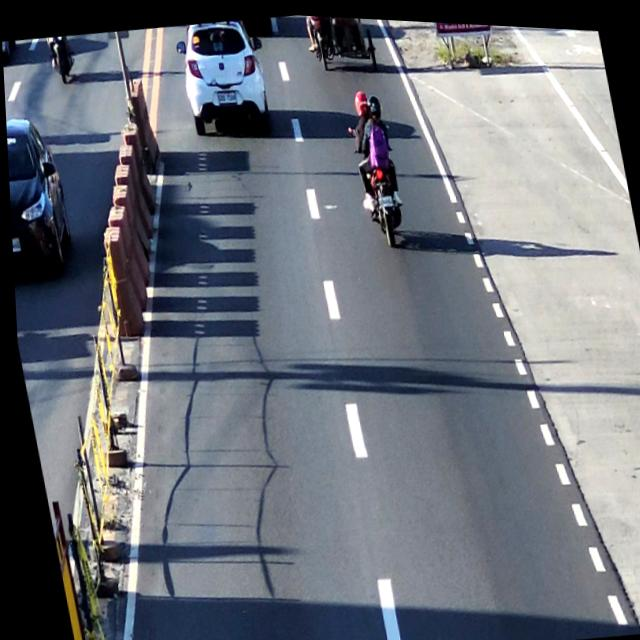Car: (173, 13, 280, 138)
License-Plate: (213, 85, 237, 103), (373, 189, 395, 207)
Motorcycle: (335, 86, 412, 249)
Tricycle: (301, 12, 385, 71)
